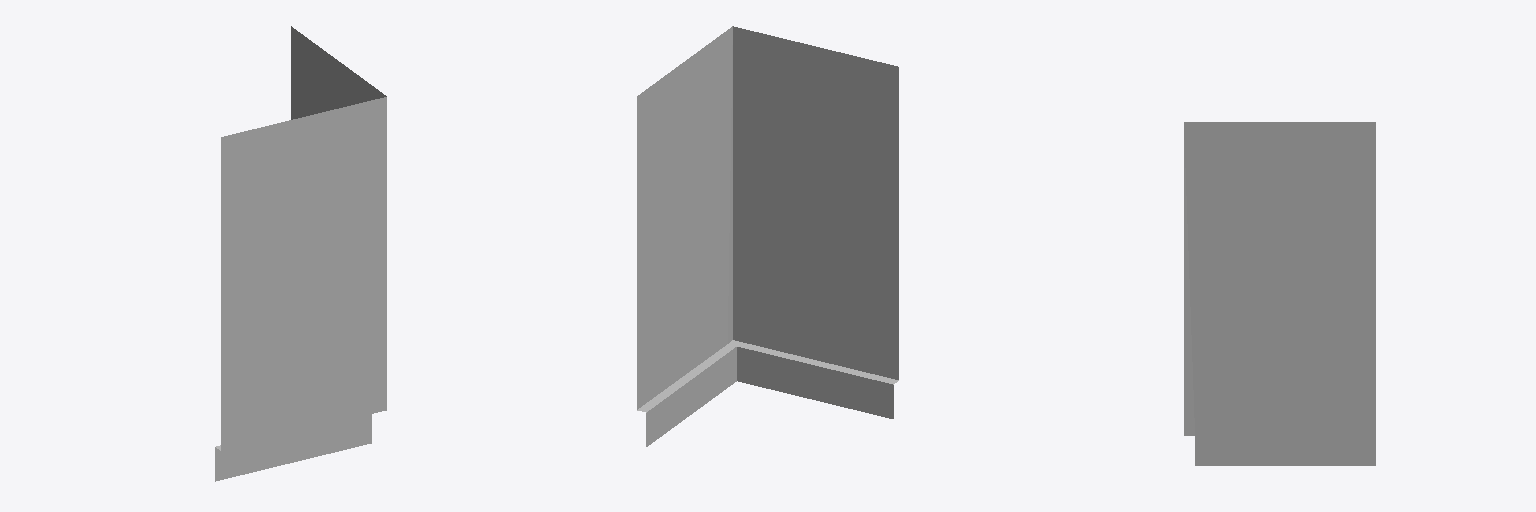
The model's file is tile_house_wall_corner_inner.obj.
3 views of the same model, side by side, from view 1: azimuth 30°, elevation 25°; view 2: azimuth 150°, elevation 25°; view 3: azimuth 270°, elevation 25° (orthographic).
Visible parts, largest first — view 1: house_wall_corner_inner; view 2: house_wall_corner_inner; view 3: house_wall_corner_inner.
Boxes of the visible parts, box(x1,y1,x2,y2) form: house_wall_corner_inner: box(215, 26, 386, 481); house_wall_corner_inner: box(637, 26, 898, 446); house_wall_corner_inner: box(1184, 122, 1375, 465).
Bounding box in the file's own units: 2 × 4 × 2.